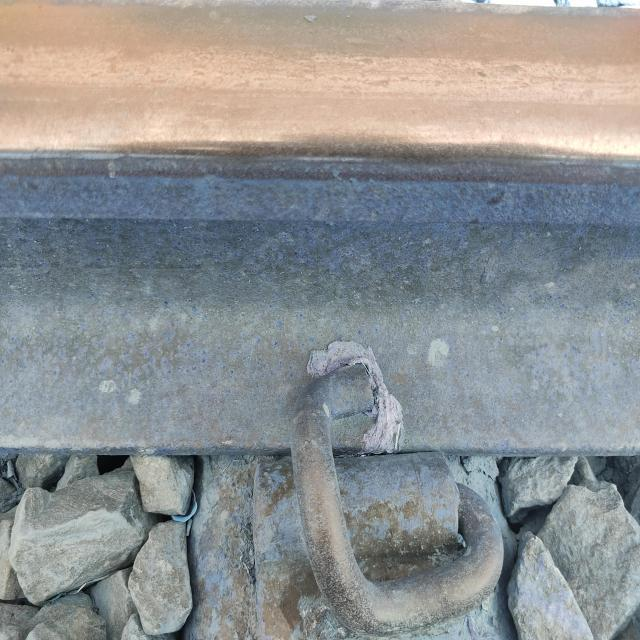Good Fasteners: (226, 351, 515, 640)
